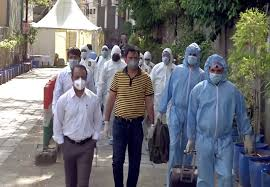mask: (203, 52, 224, 82), (70, 63, 87, 91), (121, 41, 137, 68), (186, 42, 200, 63), (66, 47, 79, 68), (161, 47, 172, 62), (110, 48, 121, 63), (142, 50, 151, 65), (80, 46, 90, 59), (98, 42, 107, 55)
